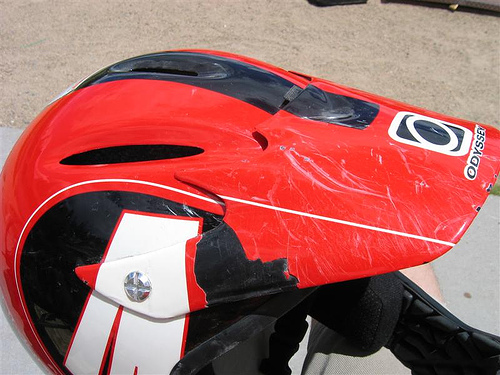helmet: (18, 52, 484, 361)
